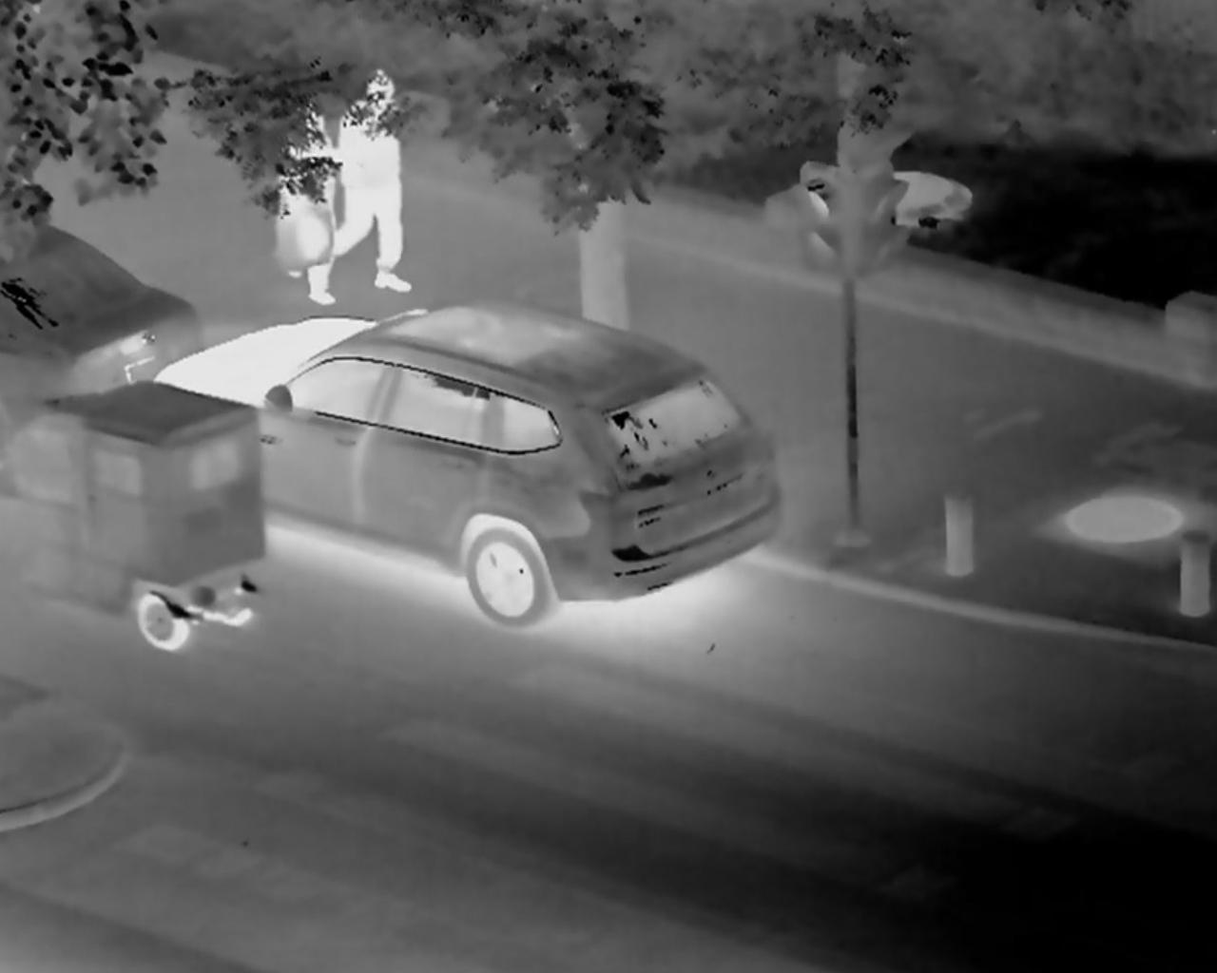person: (261, 84, 333, 288), (341, 74, 403, 272)
